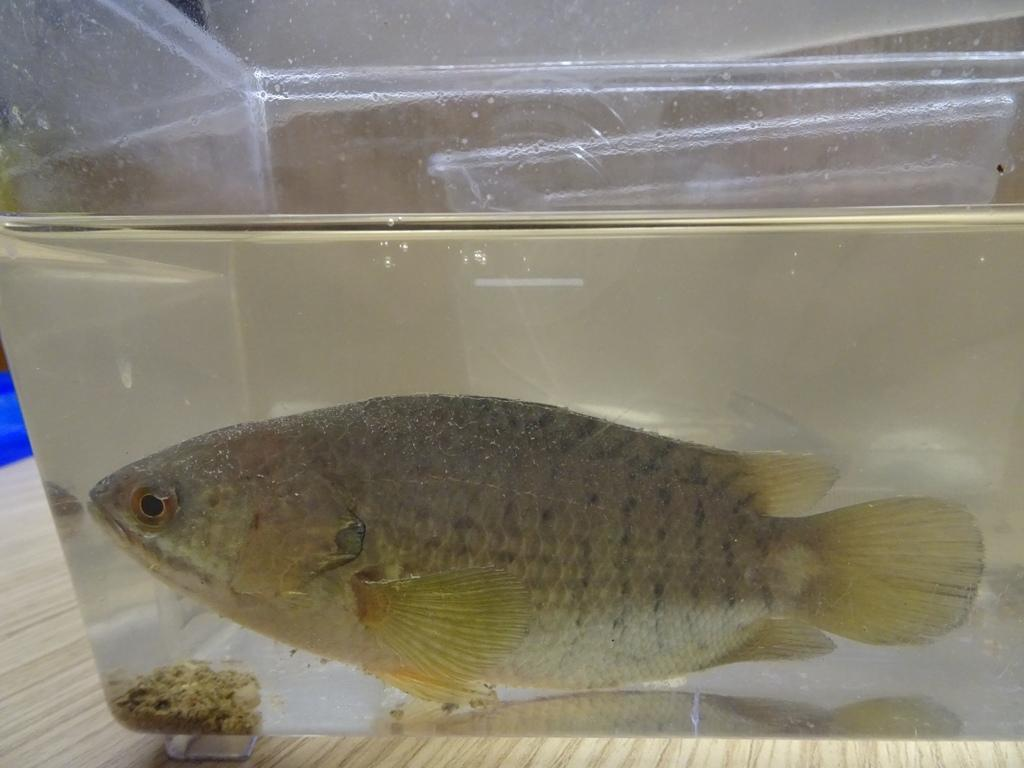Climbing Perch: (93, 386, 984, 706)
